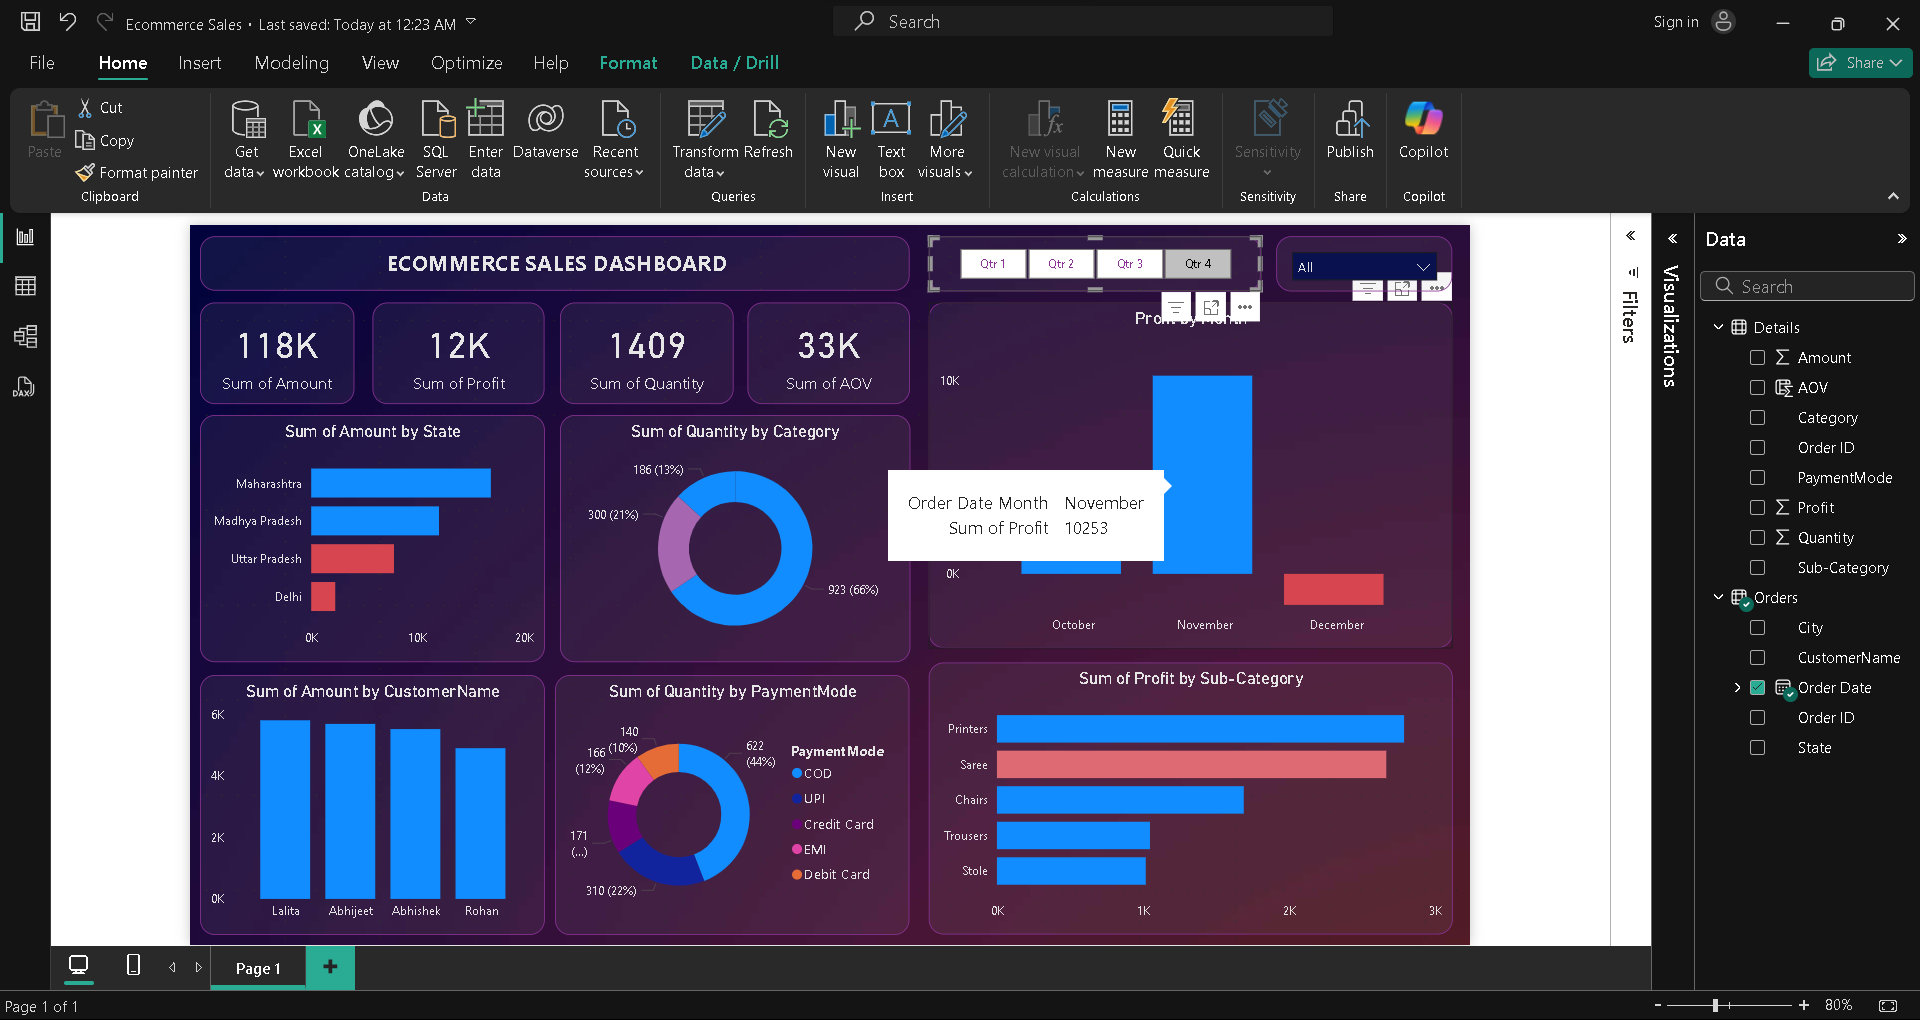

The page's visual inventory and layout, read from the dashboard file:
{"tool":"powerbi","page":{"name":"Page 1","canvas":[1280,720],"ordinal":0},"visuals":[{"type":"columnChart","title":"Profit by Month","fields":{"Category":["Orders.Order Date.Variation.Date Hierarchy.Month"],"Y":["Details.Profit"]},"box":[738.9,77.8,523.6,345.8],"z":0},{"type":"clusteredBarChart","fields":{"Category":["Details.Sub-Category"],"Y":["Details.Profit"]},"box":[738.9,437.5,523.6,272.2],"z":1000},{"type":"donutChart","fields":{"Category":["Details.Category"],"Y":["Details.Quantity"]},"box":[369.4,190.3,350,247.2],"z":2000},{"type":"donutChart","fields":{"Category":["Details.PaymentMode"],"Y":["Details.Quantity"]},"box":[365.3,450,354.2,259.7],"z":3000},{"type":"card","fields":{"Values":["Details.Amount"]},"box":[9.7,77.8,154.2,101.4],"z":4000},{"type":"card","fields":{"Values":["Details.Quantity"]},"box":[369.4,77.8,173.6,101.4],"z":5000},{"type":"card","fields":{"Values":["Details.Profit"]},"box":[181.9,77.8,172.2,101.4],"z":6000},{"type":"card","fields":{"Values":["Details.AOV"]},"box":[556.9,77.8,162.5,101.4],"z":7000},{"type":"clusteredBarChart","fields":{"Y":["Details.Amount"],"Category":["Orders.State"]},"box":[9.7,190.3,344.4,247.2],"z":8000},{"type":"clusteredColumnChart","fields":{"Category":["Orders.CustomerName"],"Y":["Details.Amount"]},"box":[9.7,450,344.4,259.7],"z":9000},{"type":"textbox","box":[9.7,11.1,709.7,54.2],"z":10000},{"type":"slicer","fields":{"Values":["Orders.Order Date.Variation.Date Hierarchy.Quarter"]},"box":[738.9,11.1,331.9,55.6],"z":11000},{"type":"slicer","fields":{"Values":["Orders.State"]},"box":[1086.1,11.1,176.4,55.6],"z":12000}]}

Visuals, with their boxes on the page's 1280x720 design canvas (x1, y1, x2, y2). These are canvas units, not pixel positions in the 1920x1020 screenshot, which may show the page scaled, cropped or inside an application window:
"Profit by Month" columnChart: box(739, 78, 1262, 424)
clusteredBarChart - Details.Sub-Category x Details.Profit: box(739, 438, 1262, 710)
donutChart - Details.Category x Details.Quantity: box(369, 190, 719, 438)
donutChart - Details.PaymentMode x Details.Quantity: box(365, 450, 720, 710)
card - Details.Amount: box(10, 78, 164, 179)
card - Details.Quantity: box(369, 78, 543, 179)
card - Details.Profit: box(182, 78, 354, 179)
card - Details.AOV: box(557, 78, 719, 179)
clusteredBarChart - Details.Amount x Orders.State: box(10, 190, 354, 438)
clusteredColumnChart - Orders.CustomerName x Details.Amount: box(10, 450, 354, 710)
textbox: box(10, 11, 719, 65)
slicer - Orders.Order Date.Variation.Date Hierarchy.Quarter: box(739, 11, 1071, 67)
slicer - Orders.State: box(1086, 11, 1262, 67)
